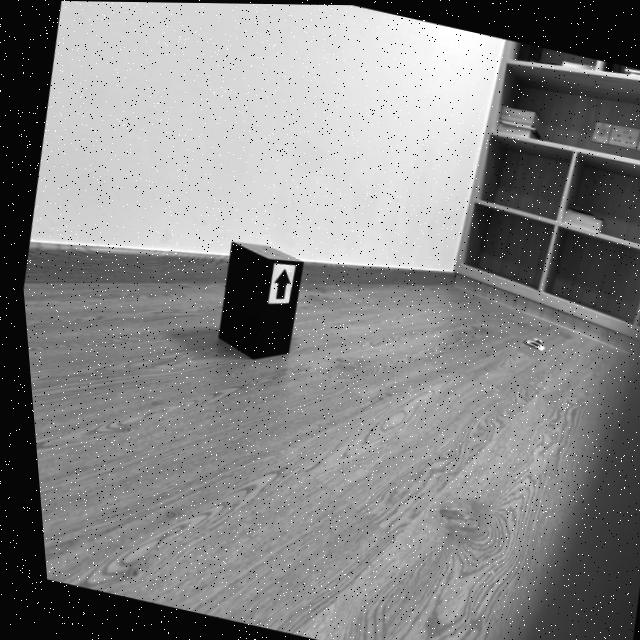UP: (268, 267, 285, 298)
